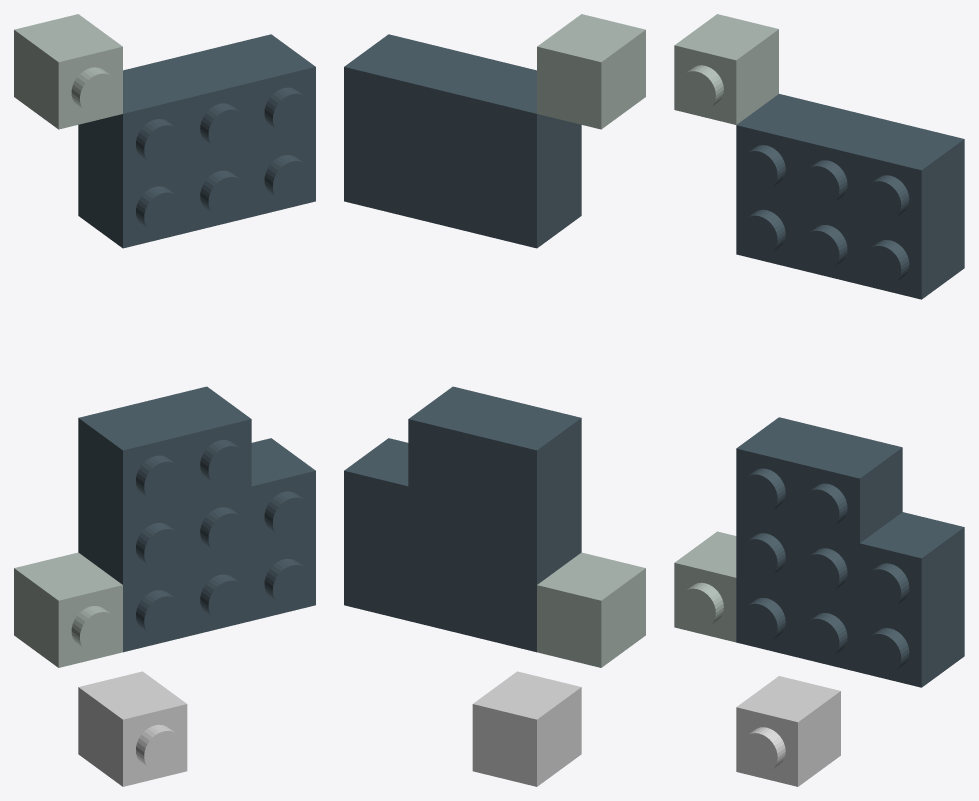
File: current.glb
3 renders of one model, left to right at view 1: azimuth 30°, elevation 25°; view 2: azimuth 150°, elevation 25°; view 3: azimuth 330°, elevation 25°, orthographic. The views are drawn at different scales.
Parts seen in each view (by area): view 1: world; view 2: world; view 3: world.
Part boxes in pixels (<box>): world: <box>14,14,315,786</box>; world: <box>344,14,645,786</box>; world: <box>674,14,964,786</box>.
Size of the model in its own units: 32 by 88 by 11.4.
